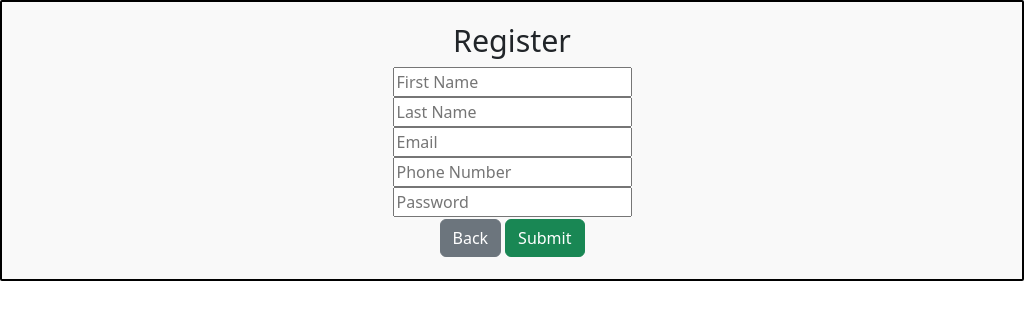
Scenario: Submits form with empty fields
The width and height of the screenshot is (1024, 322).
Click the button "Submit". click: point(545, 238)
box: [505,218,584,256]
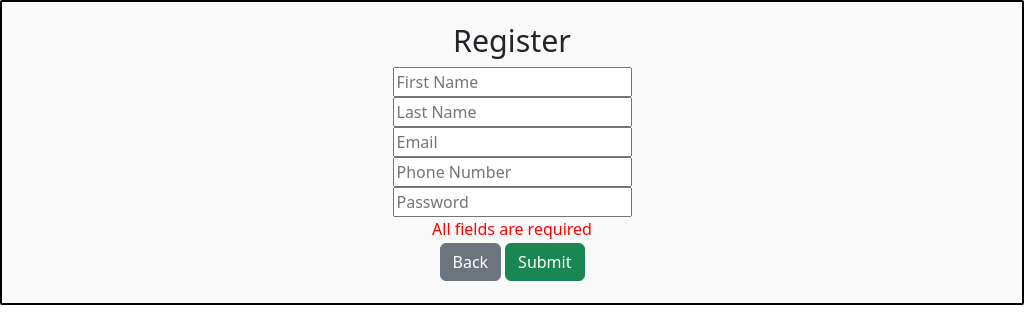
Check: the text "All fields are required" is shown, box [432,218,592,240]
